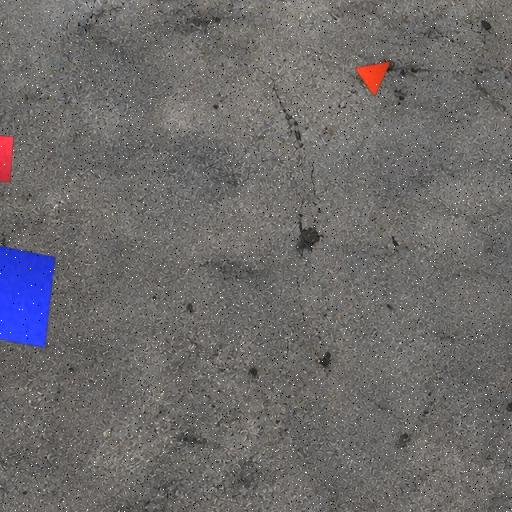BLUE_SQUARE: (0, 239, 56, 348)
